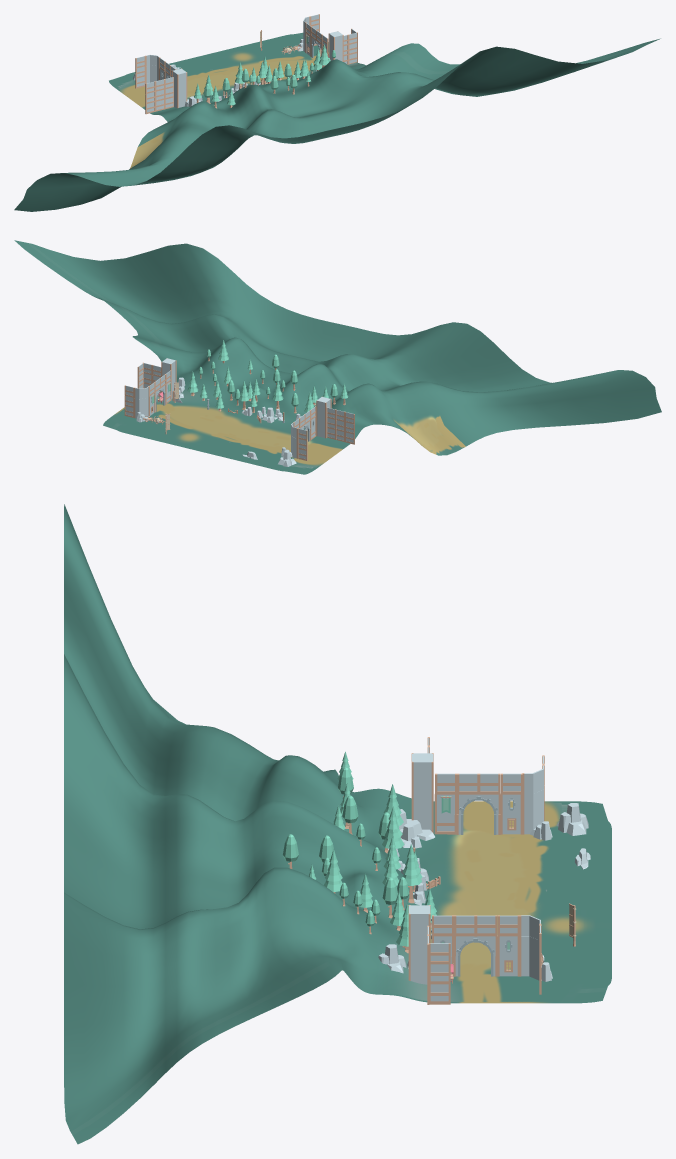
Rendered from BackgrounndScenery.fbx.
3 renders of one model, top to bottom at view 1: azimuth 30°, elevation 25°; view 2: azimuth 150°, elevation 25°; view 3: azimuth 270°, elevation 25°, orthographic. The views are drawn at different scales.
Parts seen in each view (by area): view 1: Arena.003, Arena.004; view 2: Arena.003, Arena.004; view 3: Arena.003, Arena.004.
Part boxes in pixels (<box>): Arena.003: <box>14,32,660,211</box>; Arena.004: <box>133,14,357,114</box>; Arena.003: <box>14,240,661,474</box>; Arena.004: <box>124,340,354,466</box>; Arena.003: <box>64,504,611,1144</box>; Arena.004: <box>283,737,590,1004</box>.
Size of the model in its own units: 12754 by 1762 by 4670.
